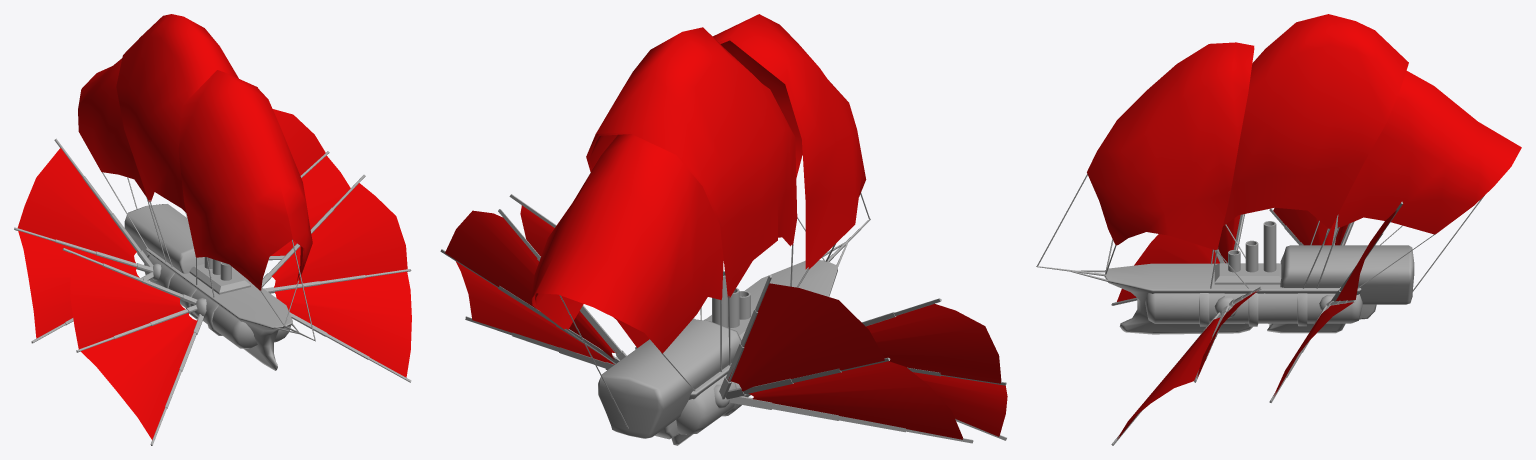
Rendered from ship_mechant_cargo.fbx.
3 renders of one model, left to right at view 1: azimuth 30°, elevation 25°; view 2: azimuth 150°, elevation 25°; view 3: azimuth 270°, elevation 25°, orthographic. The views are drawn at different scales.
Parts seen in each view (by area): view 1: polySurface18, polySurface15, polySurface17, polySurface16; view 2: polySurface18, polySurface16, polySurface17, polySurface15, polySurface19, polySurface21, polySurface20; view 3: polySurface18, polySurface17, polySurface15, polySurface16.
Boxes of the visible parts, x1,y1,x2,y2 form: polySurface18: (14,109,411,445); polySurface15: (178,70,312,290); polySurface17: (116,14,238,212); polySurface16: (78,58,147,198); polySurface18: (440,192,1007,445); polySurface16: (531,134,723,353); polySurface17: (586,27,797,297); polySurface15: (713,14,866,269); polySurface19: (718,38,808,269); polySurface21: (535,293,656,346); polySurface20: (589,132,790,296); polySurface18: (1036,174,1484,445); polySurface17: (1223,14,1408,229); polySurface15: (1087,42,1254,250); polySurface16: (1338,70,1521,234).
Bounding box in the file's own units: 18027 × 15808 × 19235.
